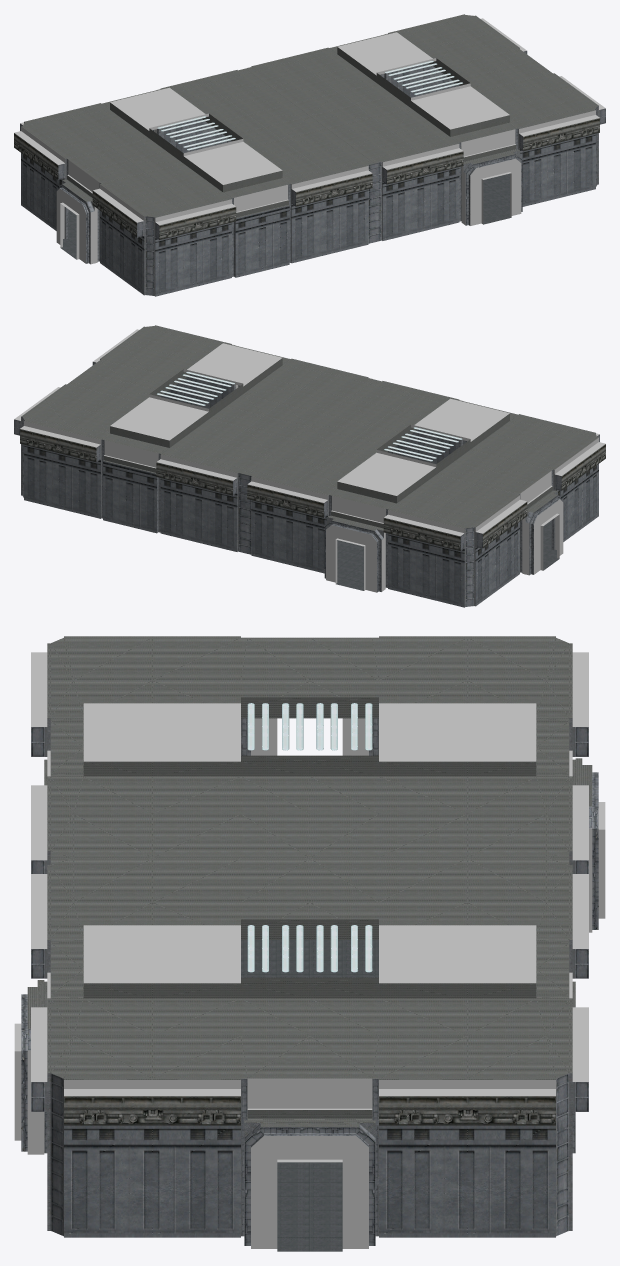
File: poi_all_impl_bunker_warren_s01_r7_smallroom7_mesh_r7.fbx
3 views of the same model, one above another, from view 1: azimuth 30°, elevation 25°; view 2: azimuth 150°, elevation 25°; view 3: azimuth 270°, elevation 25° (orthographic). The views are drawn at different scales.
Visible parts, largest first — view 1: mesh_node; view 2: mesh_node; view 3: mesh_node.
Boxes of the visible parts, box(x1,y1,x2,y2) form: mesh_node: box(14, 14, 605, 296); mesh_node: box(14, 325, 605, 607); mesh_node: box(14, 636, 605, 1251).
Bounding box in the file's own units: 34 × 6 × 18.
